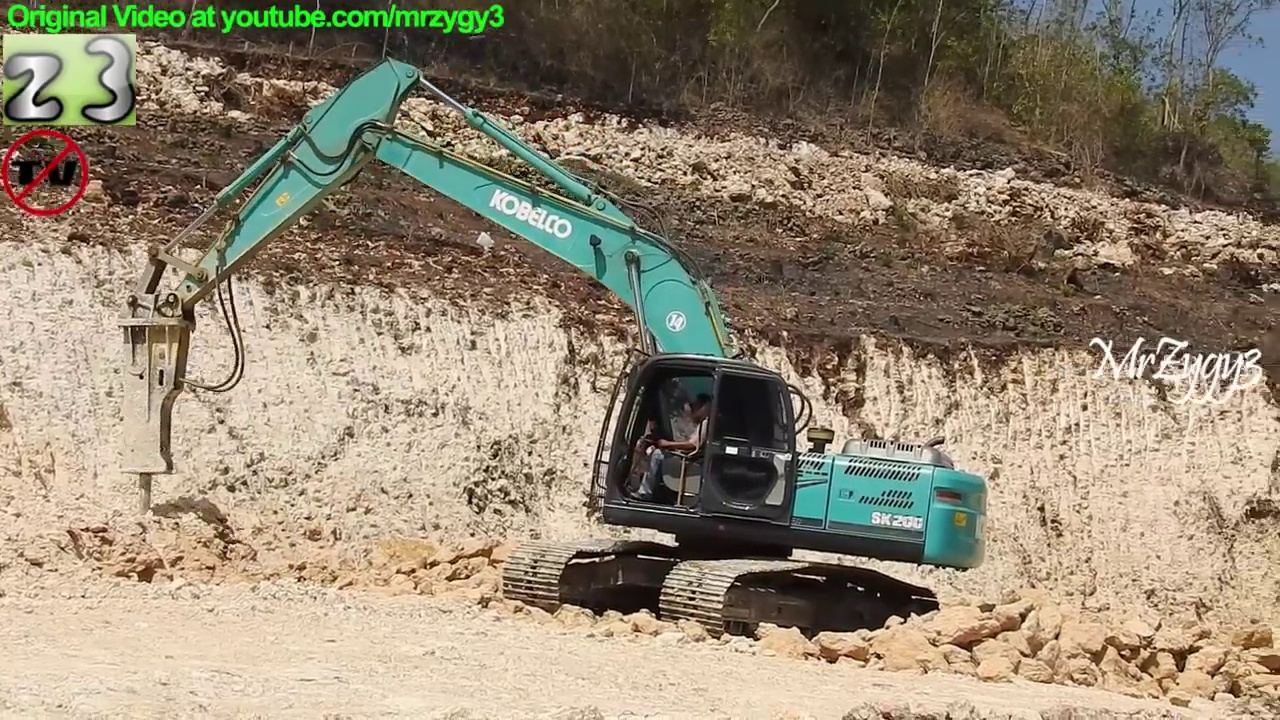excavator breaker: (109, 50, 996, 671)
